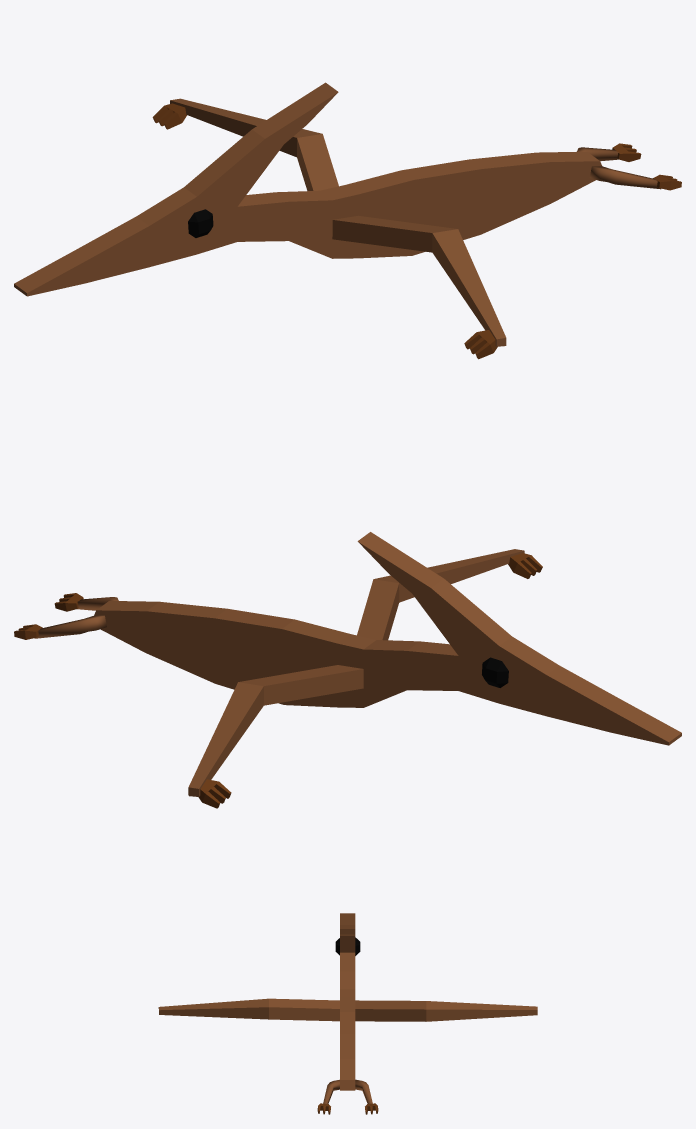
Rendered from ptero.glb.
3 views of the same model, one above another, from view 1: azimuth 30°, elevation 25°; view 2: azimuth 150°, elevation 25°; view 3: azimuth 270°, elevation 25° (orthographic). The views are drawn at different scales.
Visible parts, largest first — view 1: Plane, Cube, Cube.002, Cube.001; view 2: Plane, Cube, Cube.002, Cube.001, Cube.003; view 3: Plane, Cube.
Boxes of the visible parts, bbox=[...] form: Plane: bbox=[14, 82, 601, 346]; Cube: bbox=[577, 147, 660, 189]; Cube.002: bbox=[152, 103, 497, 359]; Cube.001: bbox=[612, 143, 681, 190]; Plane: bbox=[94, 532, 681, 796]; Cube: bbox=[34, 597, 118, 638]; Cube.002: bbox=[198, 553, 542, 808]; Cube.001: bbox=[14, 593, 83, 639]; Cube.003: bbox=[482, 657, 508, 687]; Plane: bbox=[159, 913, 537, 1090]; Cube: bbox=[323, 1079, 372, 1103].
Size of the model in its own units: 23.09 by 6.3 by 36.17.
Materials: 5 (2 with a texture image).
